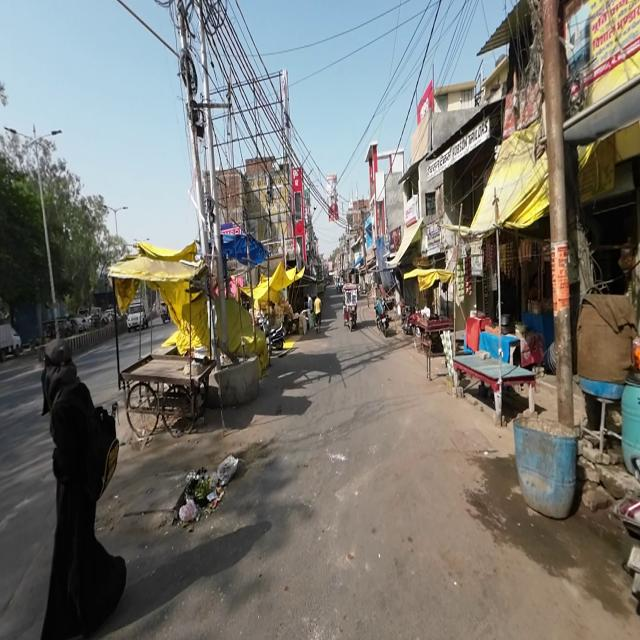Garbage: (179, 455, 239, 526)
